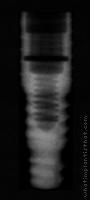DENTSPLY: (19, 12, 73, 190)
